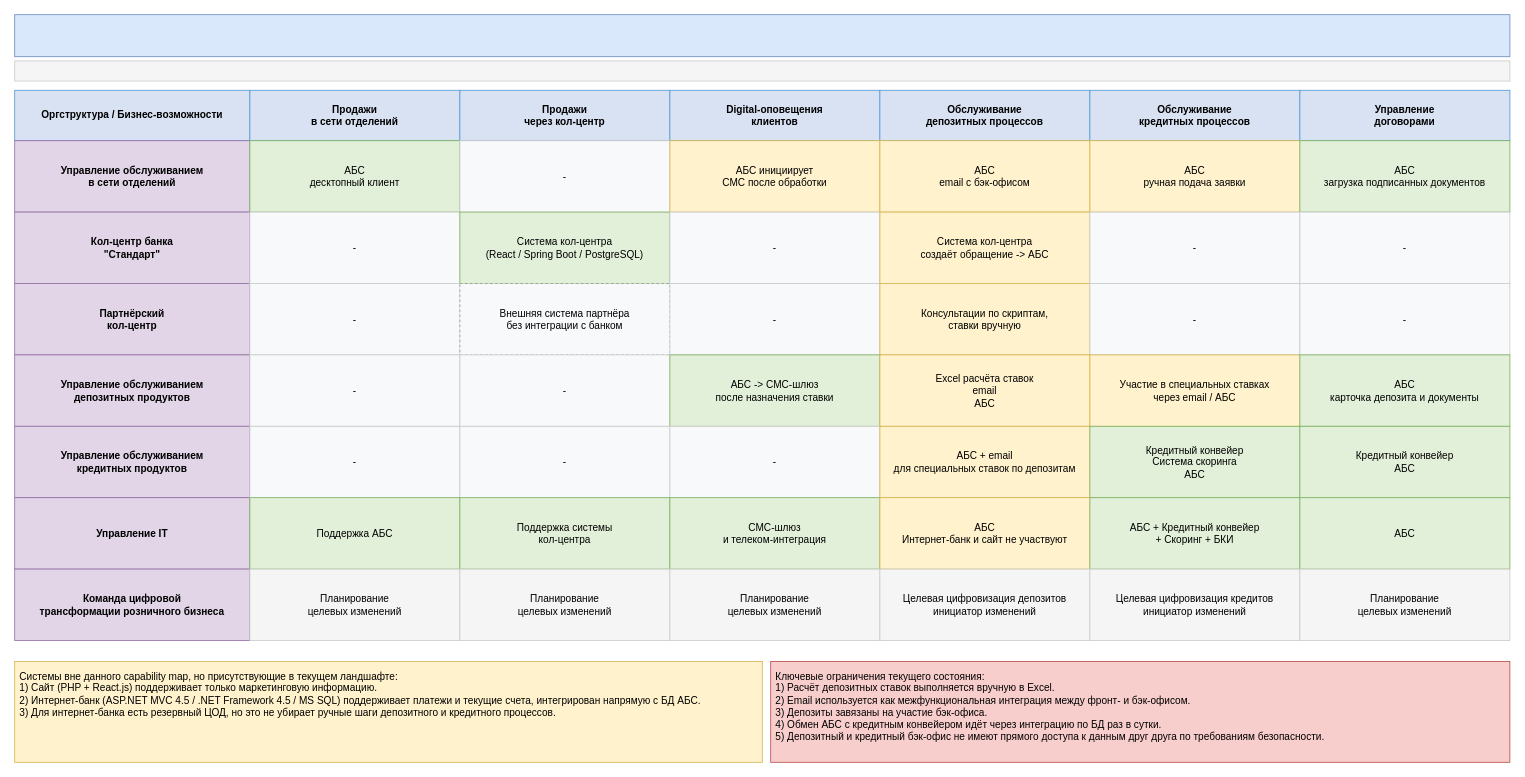
Some shapes in this 1525 by 777 pixel diagram are drawn without their labels. The shapes that lost their labels are listed below. From the top down, each one's centre as x and y in pixels, then its label:
[762,35]: Карта текущего IT-ландшафта банка "Стандарт"
[762,70]: Строки: оргструктура. Колонки: business capabilities 2 уровня.
